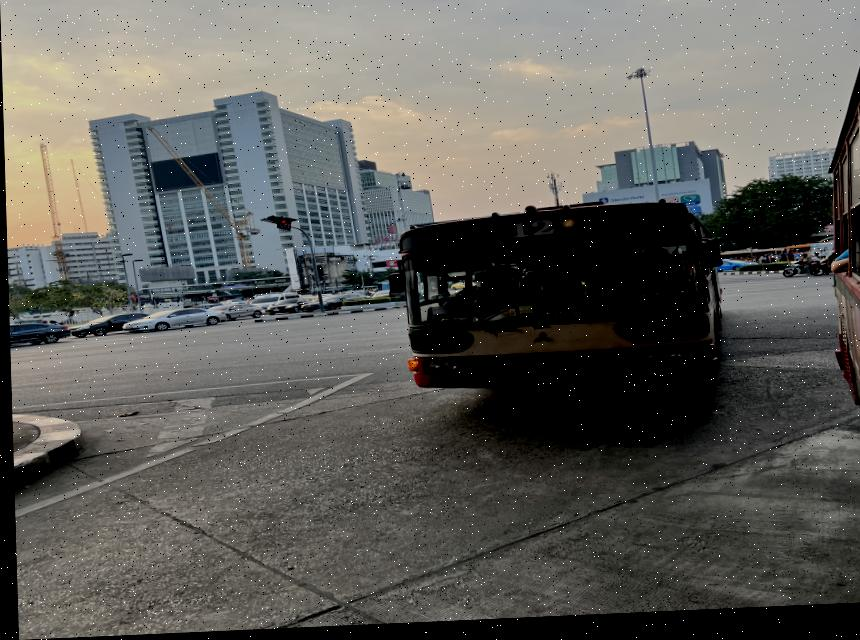BMTA-bus: (390, 207, 723, 397)
Bus Line Number: (497, 219, 572, 246)
Bus Side Number: (610, 369, 704, 388)
Destination Sign: (588, 295, 672, 318)
